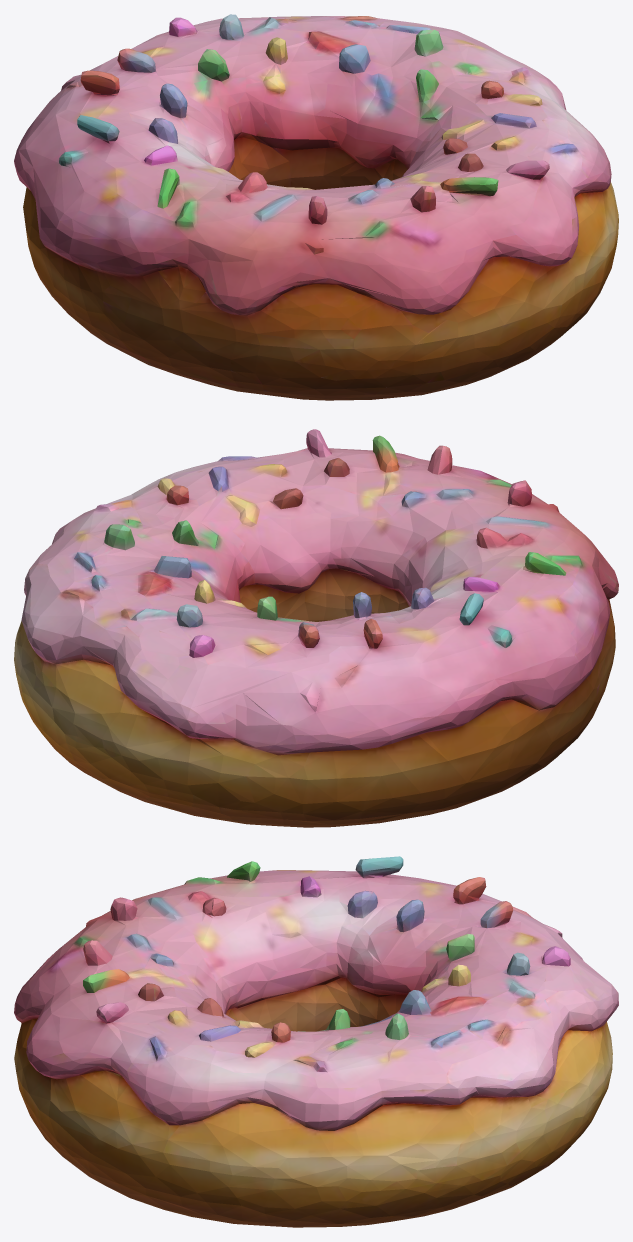
The model's file is pink_frosted_donut.glb.
3 renders of one model, top to bottom at view 1: azimuth 30°, elevation 25°; view 2: azimuth 150°, elevation 25°; view 3: azimuth 270°, elevation 25°, orthographic. The views are drawn at different scales.
Parts seen in each view (by area): view 1: geometry_0; view 2: geometry_0; view 3: geometry_0.
Boxes of the visible parts, x1=… form: geometry_0: x1=14, y1=14, x2=618, y2=400; geometry_0: x1=14, y1=429, x2=618, y2=827; geometry_0: x1=14, y1=856, x2=618, y2=1227.
Bounding box in the file's own units: 0.284 × 0.1086 × 0.3.
Materials: 1 (1 with a texture image).
